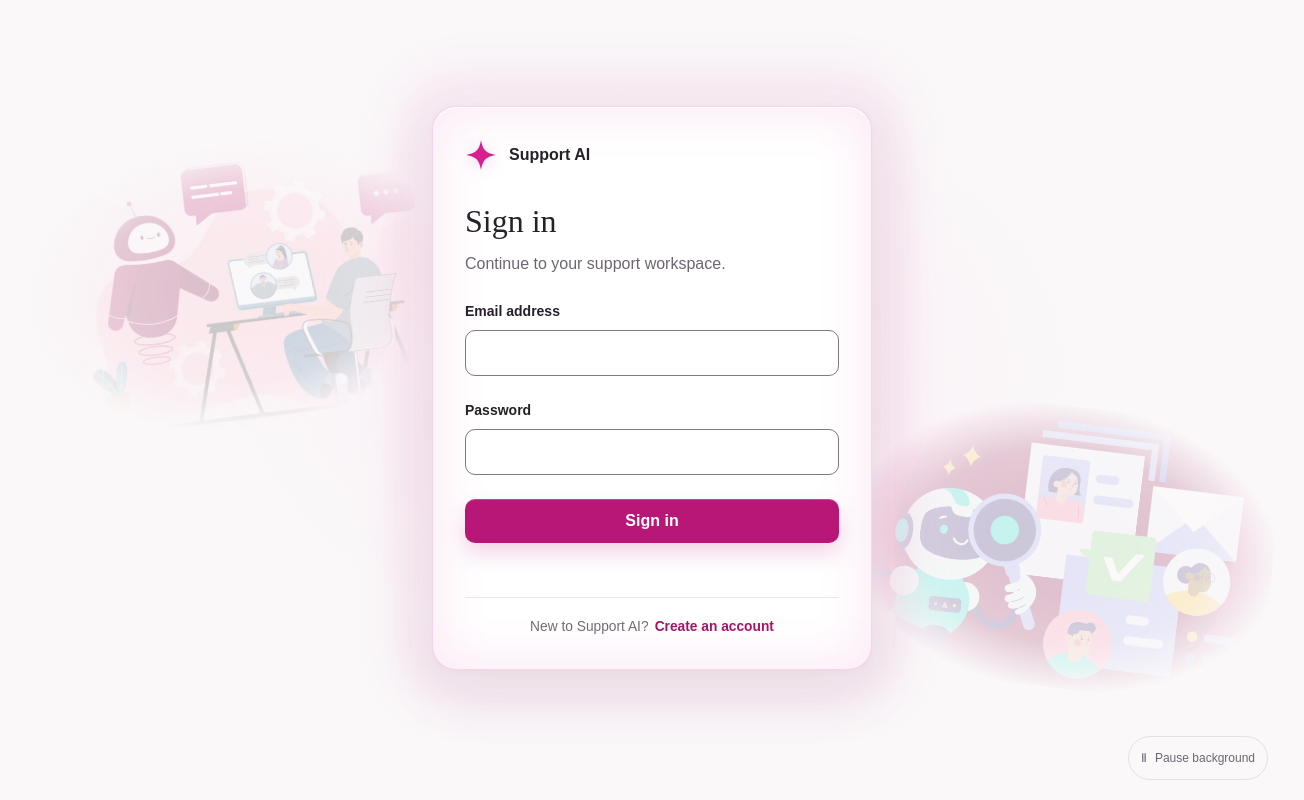
login form › shows a safe credential error and clears the password
In the field labelled "Email address": [652, 353] box [465,330,839,376], type " CUSTOMER@example.test "
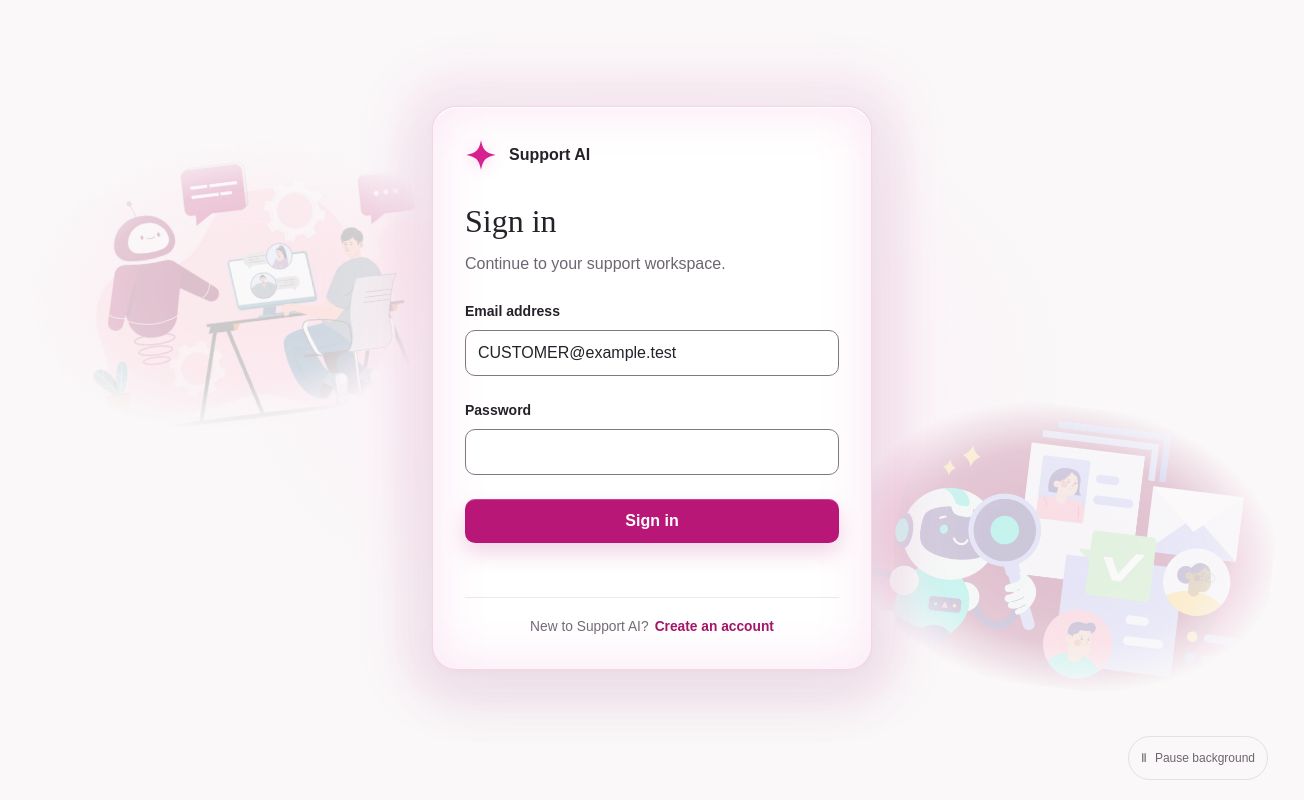
In the password field labelled "Password": [652, 452] box [465,429,839,475], type "  password-with-spaces  "
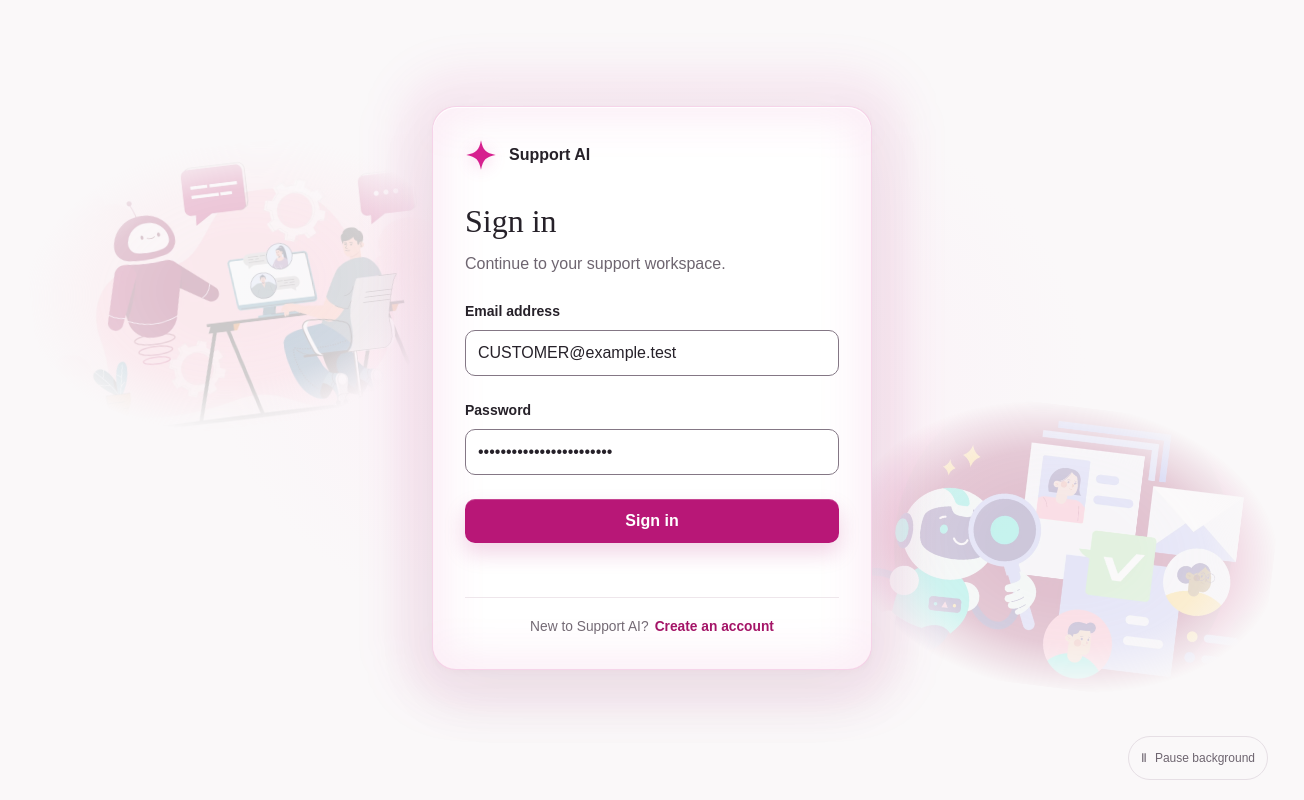
Submit the form "Sign in", box [465,301,839,591]
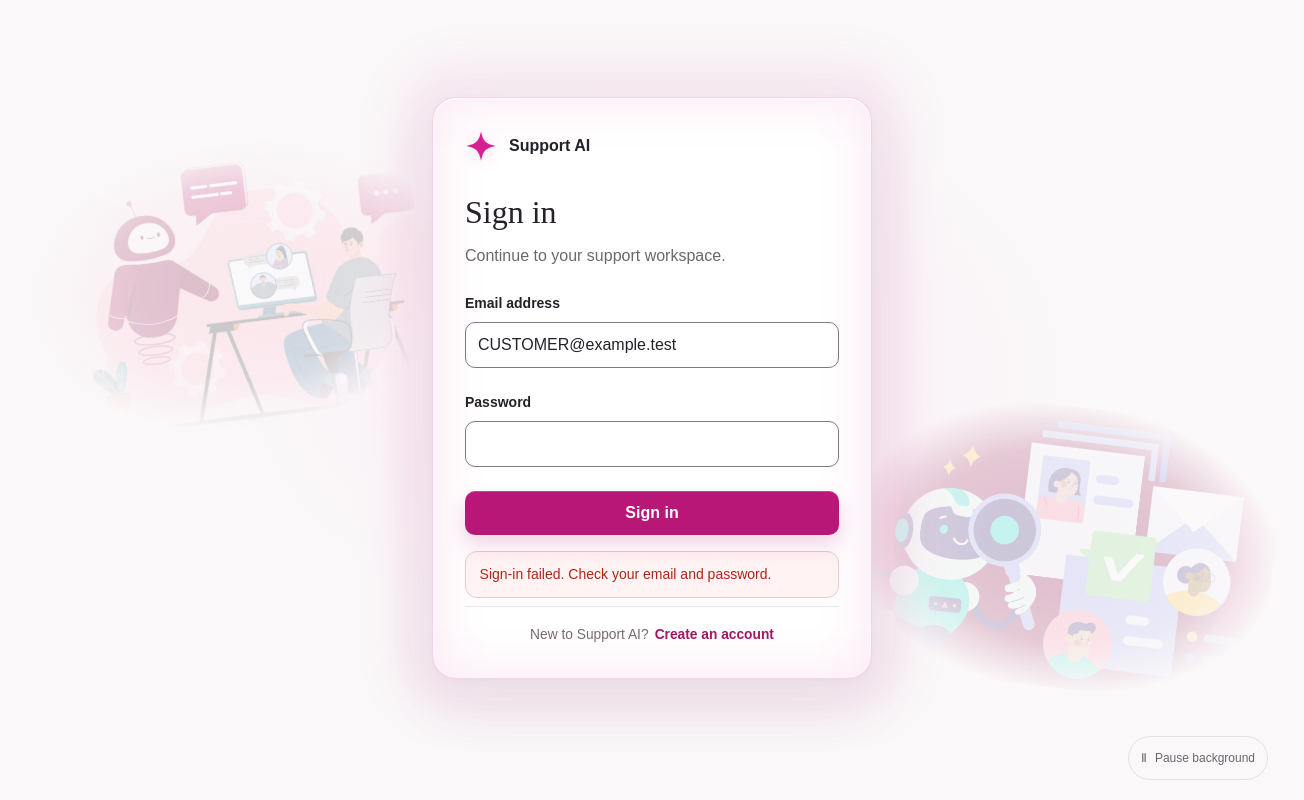
expect the message reads "Sign-in failed. Check your email and password.": met, box [480,566,771,582]
expect the password field labelled "Password" is empty: met, box [465,421,839,467]
